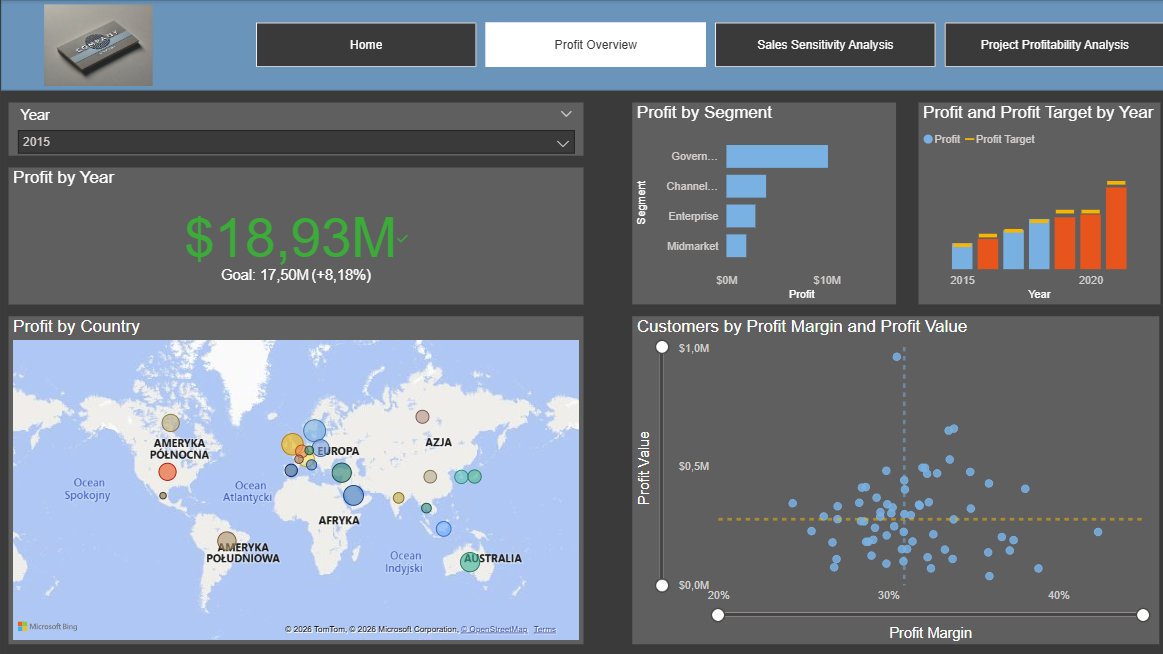

The dashboard page shown, as its layout file describes it:
{"tool":"powerbi","page":{"name":"Profit Overview","canvas":[1280,720],"ordinal":1},"visuals":[{"type":"shape","box":[0,0,1280,99.2],"z":0,"group":"g1"},{"type":"map","title":"Profit by Country","fields":{"Category":["Customer_Dim.Country"],"Size":["Sum(Sales_Fact.Profit)"],"Series":["Customer_Dim.Country"]},"box":[8.8,347.2,631.2,359.9],"z":0},{"type":"pageNavigator","box":[280.1,24.3,999.9,49.6],"z":1000,"group":"g1"},{"type":"kpi","title":"Profit by Year","fields":{"Goal":["Sum(Revenue Targets.Profit Target)"],"TrendLine":["Calendar.Date.Variation.Date Hierarchy.Year"],"Indicator":["Sum(Sales_Fact.Profit)"]},"box":[8.8,183.8,631.2,150.8],"z":1000},{"type":"lineStackedColumnComboChart","title":"Profit and Profit Target by Year","fields":{"Category":["Calendar.Date.Variation.Date Hierarchy.Year"],"Y":["Sum(Sales_Fact.Profit)"],"Y2":["Sum(Revenue Targets.Profit Target)"]},"box":[1006.7,112.8,265.5,221.8],"z":2000},{"type":"scatterChart","title":"Customers by Profit Margin and Profit Value","fields":{"X":["Sales_Fact.Profit Margin"],"Y":["Sum(Sales_Fact.Profit)"],"Category":["Sales_Fact.Customer_ID"]},"box":[693.5,347.2,578.7,359.9],"z":3000},{"type":"group","id":"g1","title":"Group 1","box":[0,0,1280,99.2],"z":4000},{"type":"clusteredBarChart","title":"Profit by Segment","fields":{"Category":["Customer_Dim.Segment"],"Y":["Sum(Sales_Fact.Profit)"]},"box":[693.5,112.8,289.8,221.8],"z":5000},{"type":"slicer","fields":{"Values":["Calendar.Date.Variation.Date Hierarchy.Year"]},"box":[8.8,112.8,631.2,58.4],"z":6000},{"type":"image","box":[42.8,0,129.4,99.2],"z":7000}]}

Visuals, with their boxes in screenshot pixels (x1, y1, x2, y2), scaled from the page's 1280x720 canvas onto the 1163x654 screenshot:
shape: [0,0,1162,90]
"Profit by Country" map: [8,315,582,642]
pageNavigator: [254,22,1162,67]
"Profit by Year" kpi: [8,167,582,304]
"Profit and Profit Target by Year" lineStackedColumnComboChart: [915,102,1156,304]
"Customers by Profit Margin and Profit Value" scatterChart: [630,315,1156,642]
"Group 1" group: [0,0,1162,90]
"Profit by Segment" clusteredBarChart: [630,102,893,304]
slicer - Calendar.Date.Variation.Date Hierarchy.Year: [8,102,582,156]
image: [39,0,156,90]
